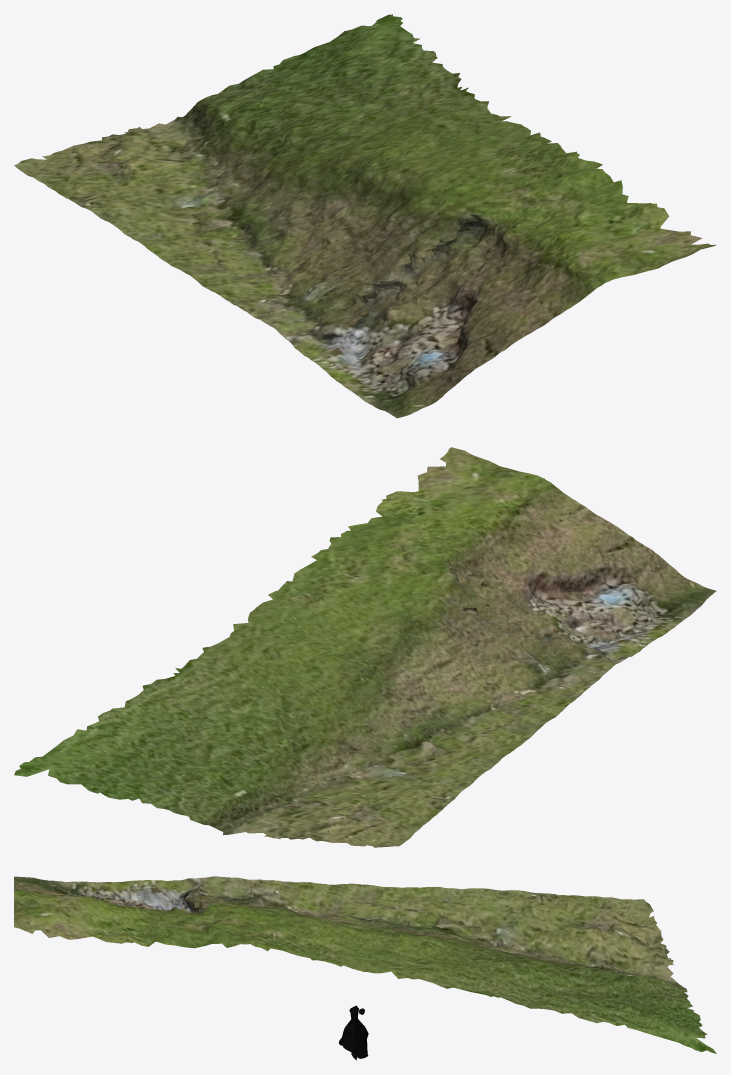
The picture shows the model from 3 angles, top to bottom: view 1: azimuth 30°, elevation 25°; view 2: azimuth 150°, elevation 25°; view 3: azimuth 270°, elevation 25°; orthographic projection. The views are drawn at different scales.
Size of the model in its own units: 3.81 by 1.47 by 6.68.
Materials: 1 (1 with a texture image).
